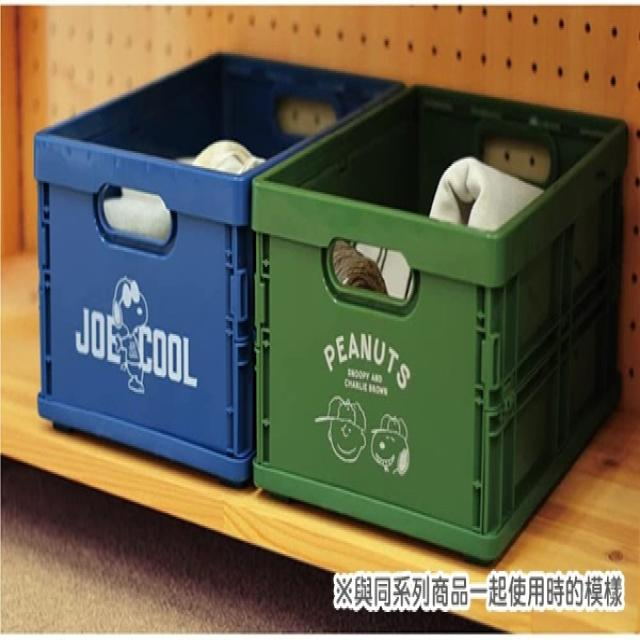plastic: (34, 49, 630, 562)
